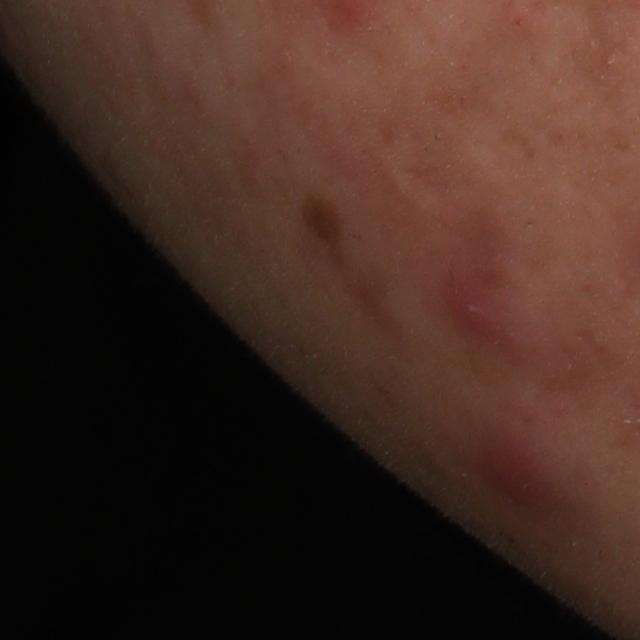papule: (480, 438, 552, 517)
